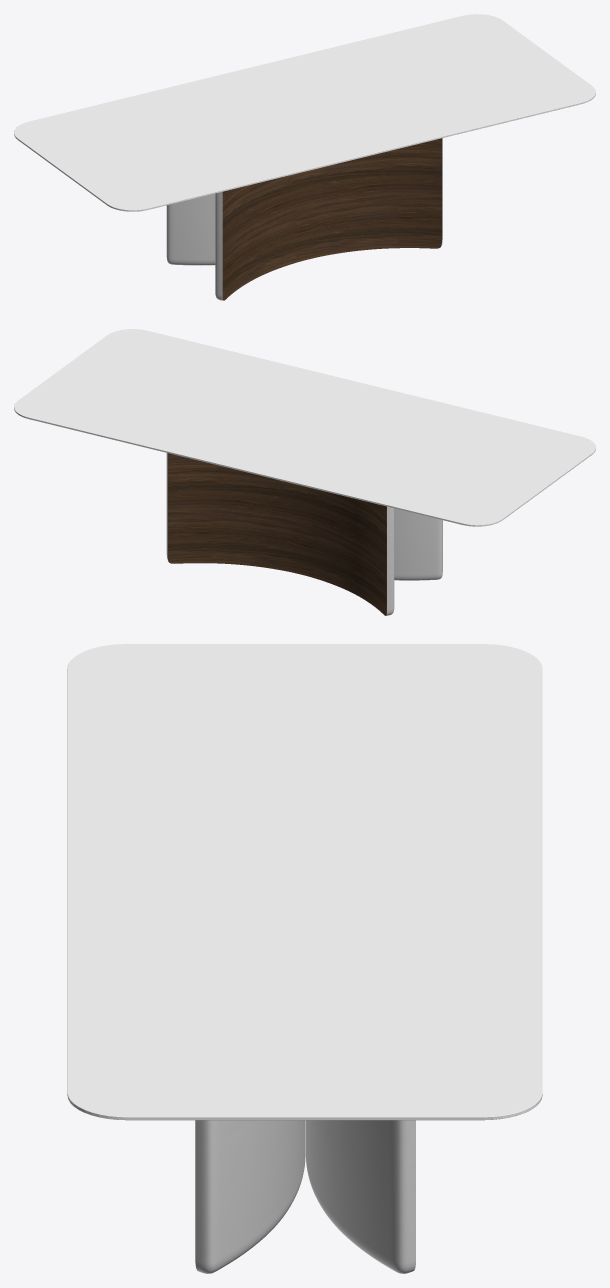
The picture shows the model from 3 angles, top to bottom: view 1: azimuth 30°, elevation 25°; view 2: azimuth 150°, elevation 25°; view 3: azimuth 270°, elevation 25°; orthographic projection. The views are drawn at different scales.
Parts seen in each view (by area): view 1: MEJ10022_Component_05, MEJ10022_Component_06, MEJ10022_Component_07 (×2); view 2: MEJ10022_Component_05, MEJ10022_Component_06, MEJ10022_Component_07 (×2); view 3: MEJ10022_Component_05, MEJ10022_Component_07 (×2).
Part boxes in pixels (x1,y1,x2,y2): MEJ10022_Component_05: [14, 14, 595, 211]; MEJ10022_Component_06: [222, 138, 441, 300]; MEJ10022_Component_07 (×2): [166, 138, 442, 300]; MEJ10022_Component_05: [14, 329, 595, 526]; MEJ10022_Component_06: [167, 453, 386, 615]; MEJ10022_Component_07 (×2): [166, 453, 442, 615]; MEJ10022_Component_05: [67, 644, 542, 1120]; MEJ10022_Component_07 (×2): [195, 1120, 415, 1273].
Size of the model in its own units: 106 by 45 by 30.
Materials: 5 (2 with a texture image).
